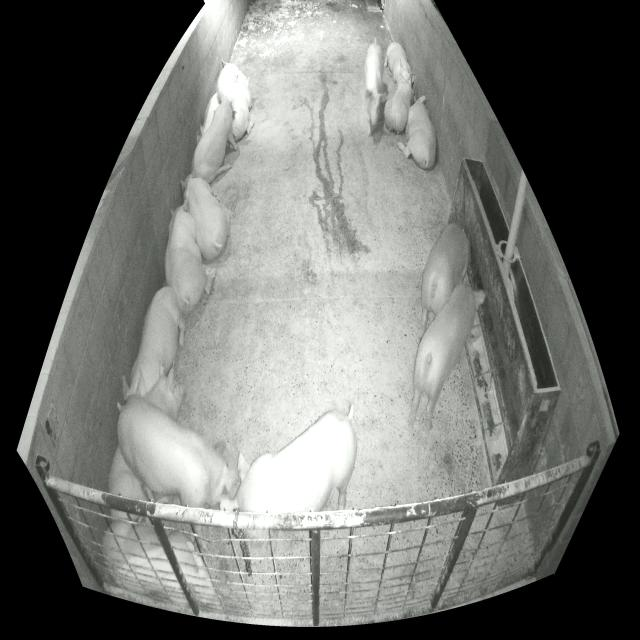pig: (219, 405, 357, 512), (117, 396, 238, 508), (409, 273, 486, 431), (109, 366, 184, 523), (103, 519, 215, 609), (123, 287, 185, 399), (419, 224, 468, 340), (165, 199, 206, 311), (190, 86, 236, 183), (180, 170, 228, 260), (217, 60, 254, 141), (397, 95, 436, 169), (364, 38, 384, 137), (384, 72, 414, 133), (384, 42, 411, 86), (200, 94, 218, 134)
